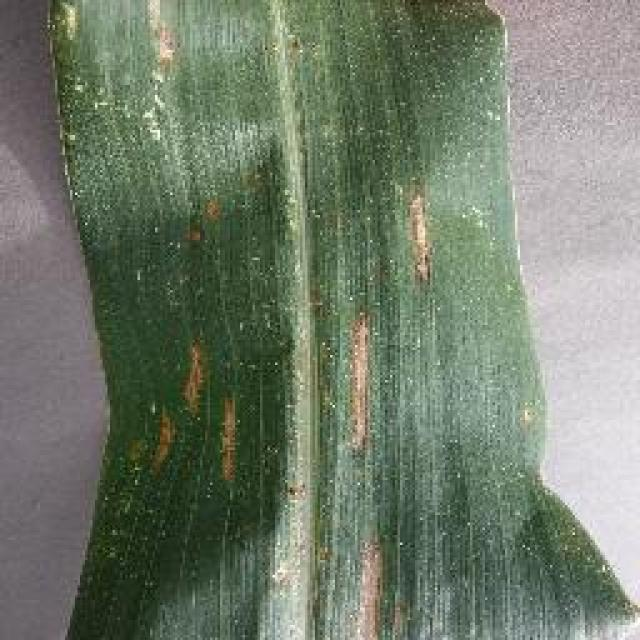Corn___Cercospora_leaf_spot Gray_leaf_spot: (80, 4, 540, 639)
